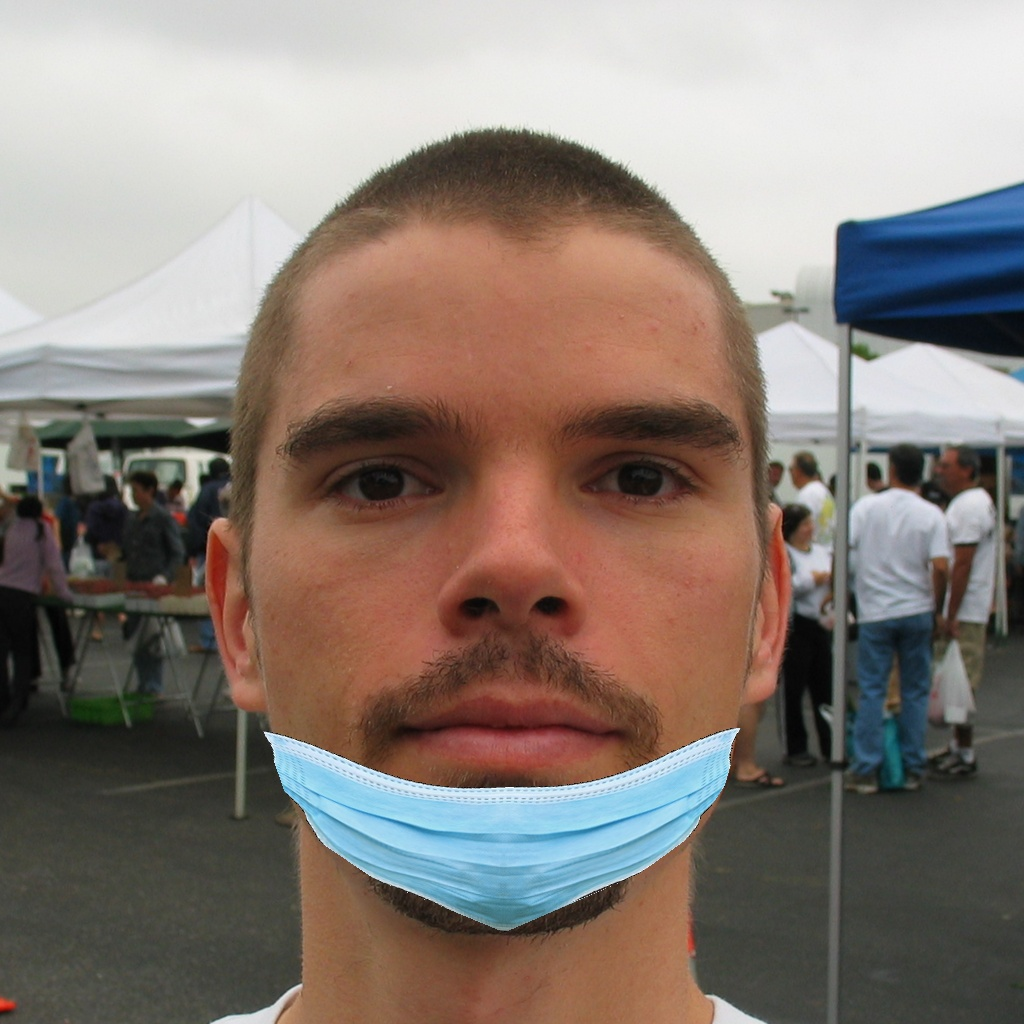mascarilla_mal_puesta: (181, 310, 851, 988)
